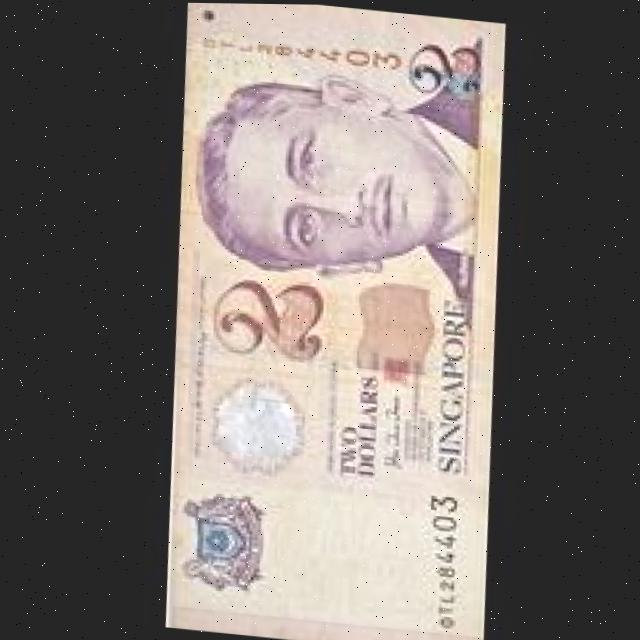banknote: (127, 1, 530, 640), (197, 263, 333, 370), (391, 25, 491, 117), (319, 368, 389, 488)
